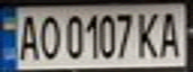0: (97, 10, 118, 60), (63, 11, 84, 61)
1: (81, 10, 100, 61)
7: (115, 10, 136, 60)
A: (154, 8, 187, 59), (12, 11, 42, 62)
K: (136, 9, 163, 60)
O: (36, 11, 60, 62)
